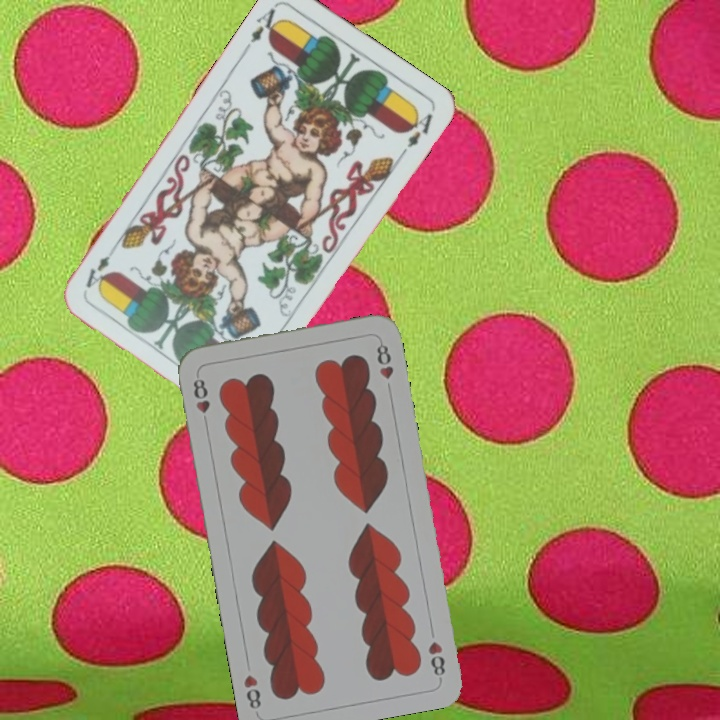EA: (240, 1, 285, 54)
H8: (189, 374, 213, 429), (423, 637, 448, 682)
